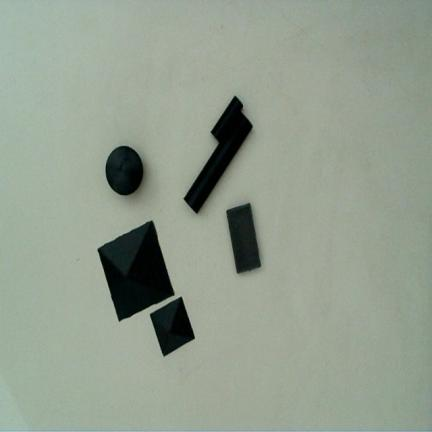Cilindro: (183, 113, 254, 214), (210, 95, 243, 143)
Esfera: (105, 146, 143, 196)
Paralelepipedo: (226, 203, 261, 273)
Piramide: (98, 220, 175, 323), (149, 296, 195, 357)
